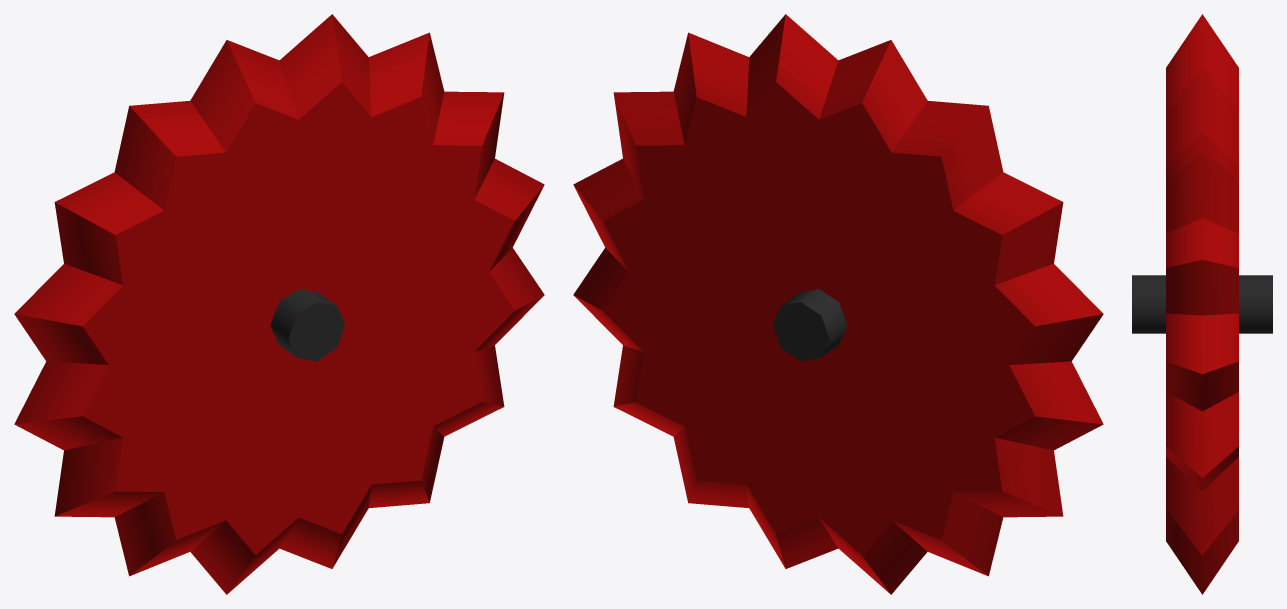
Rendered from Saw_02.01.fbx.
3 views of the same model, side by side, from view 1: azimuth 30°, elevation 25°; view 2: azimuth 150°, elevation 25°; view 3: azimuth 270°, elevation 25° (orthographic). The views are drawn at different scales.
Parts seen in each view (by area): view 1: Saw; view 2: Saw; view 3: Saw.
Boxes of the visible parts, box(x1,y1,x2,y2) form: Saw: box(14, 14, 544, 594); Saw: box(573, 14, 1103, 594); Saw: box(1132, 14, 1272, 594).
Bounding box in the file's own units: 255 × 255 × 62.37.
